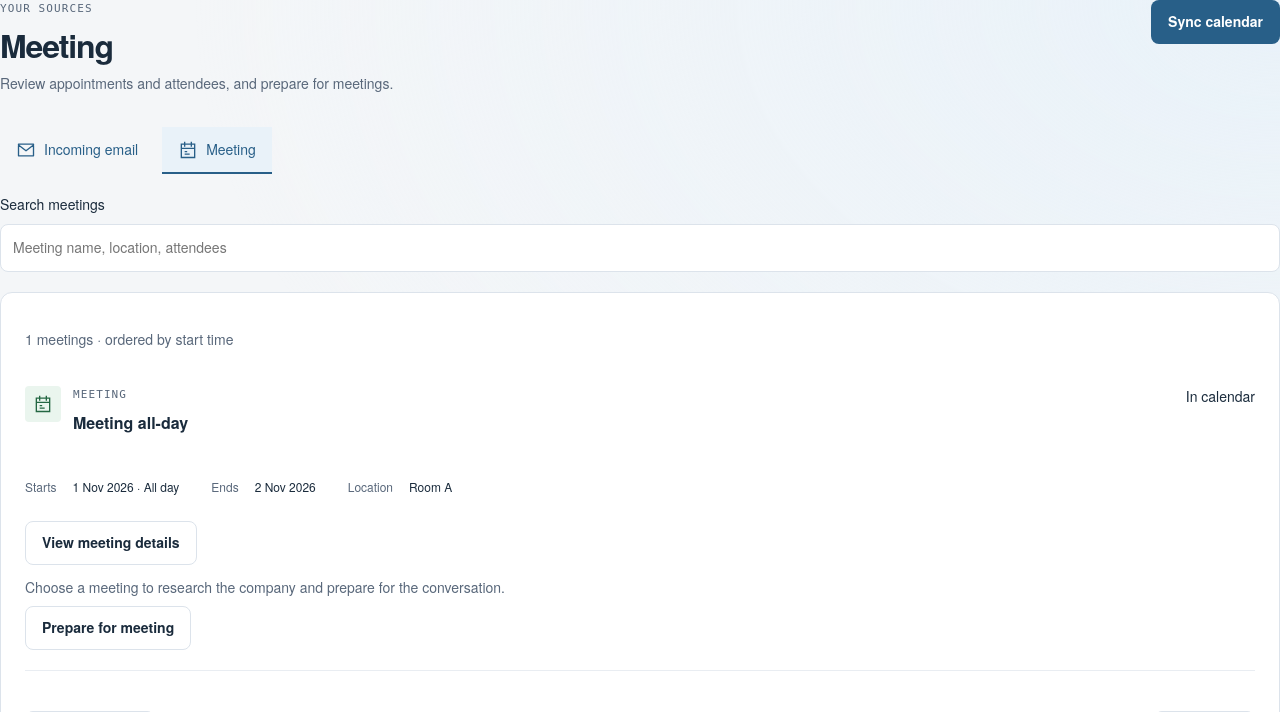
Scenario: inbox source workspace › shows all-day dates without timezone shifts and excludes the calendar end boundary
Check: the heading "Meeting all-day" is shown, box [73,410,188,434]
Check: the text "1 Nov 2026 · All day" is shown, box [73,478,179,496]
Click the button "View meeting details".
click(111, 542)  # box [25,520,197,564]
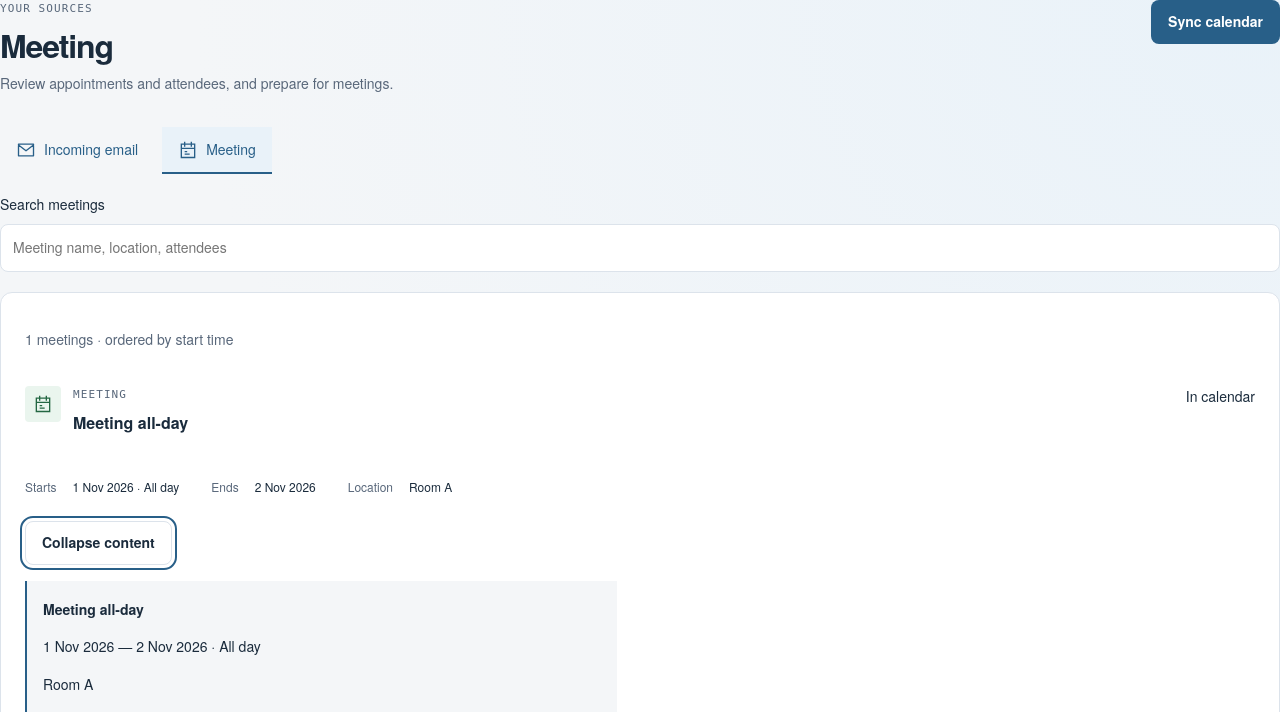
Check: the text "1 Nov 2026 — 2 Nov 2026 · All day" is shown, box [43,636,261,656]
